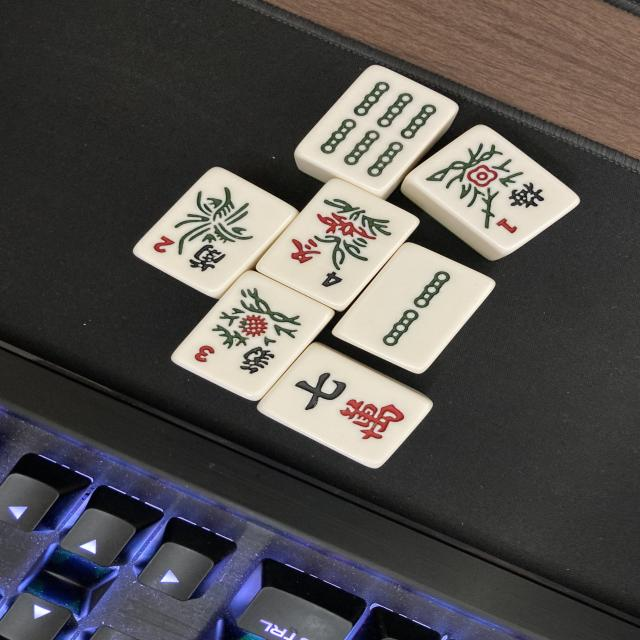f1: (415, 127, 581, 259)
f2: (136, 176, 295, 302)
f3: (176, 276, 332, 406)
ff4: (260, 178, 414, 313)
m7: (262, 346, 423, 468)
s2: (336, 243, 483, 372)
s6: (306, 65, 452, 194)
